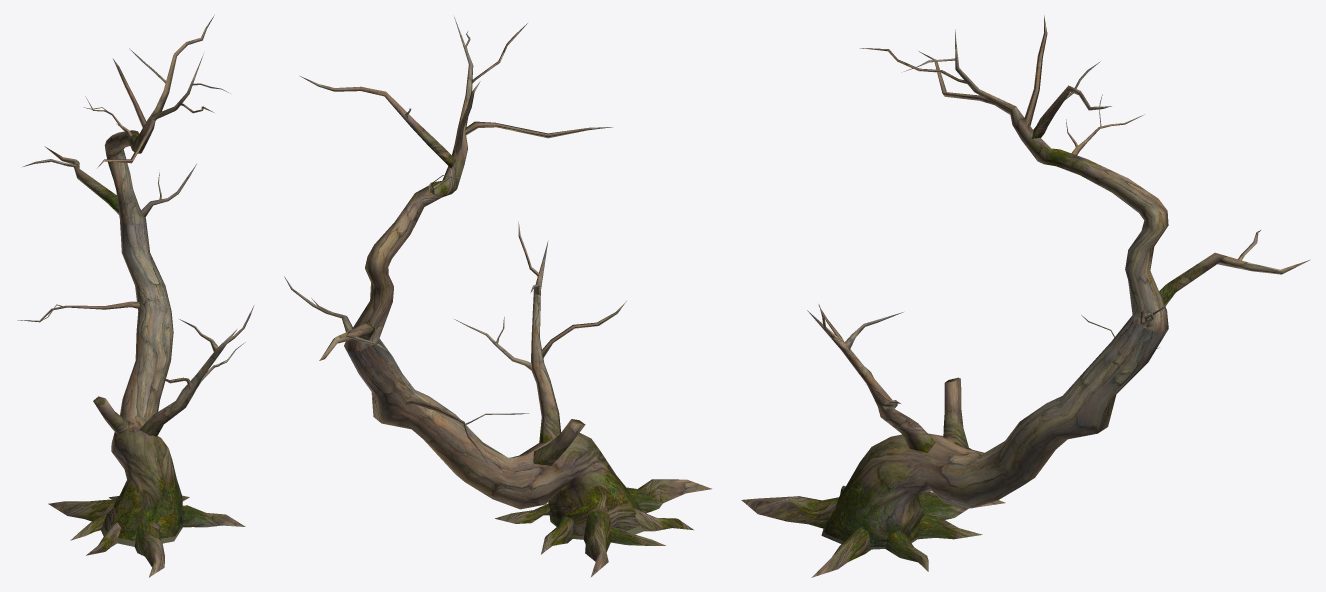
The model's file is shi_gan_02.FBX.
3 renders of one model, left to right at view 1: azimuth 30°, elevation 25°; view 2: azimuth 150°, elevation 25°; view 3: azimuth 270°, elevation 25°, orthographic. The views are drawn at different scales.
Parts seen in each view (by area): view 1: shi_gan_02; view 2: shi_gan_02; view 3: shi_gan_02.
Part boxes in pixels (x1=…): shi_gan_02: x1=17, y1=15, x2=254, y2=577; shi_gan_02: x1=284, y1=17, x2=711, y2=577; shi_gan_02: x1=741, y1=15, x2=1310, y2=577.
Size of the model in its own units: 28.76 by 50.89 by 46.9.
